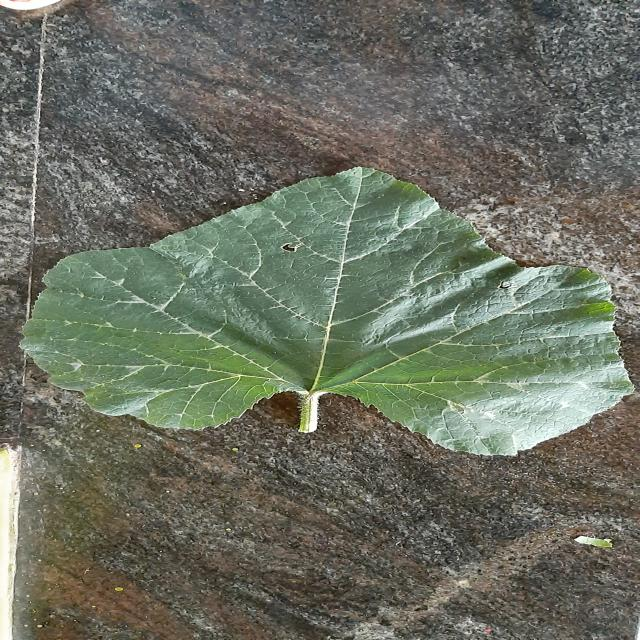pumpkin: (22, 168, 631, 455)
